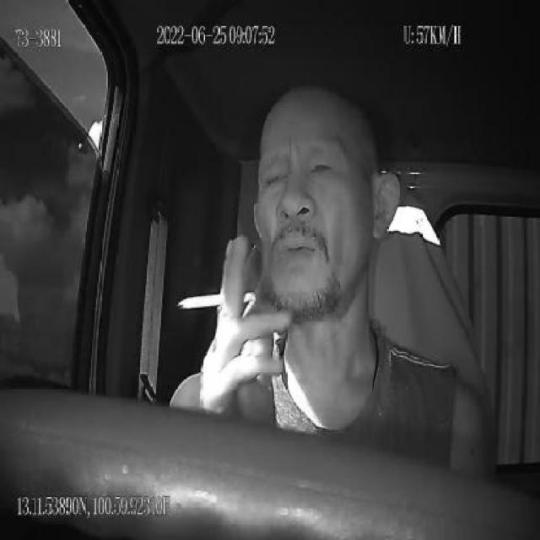smoking: (178, 290, 257, 312)
